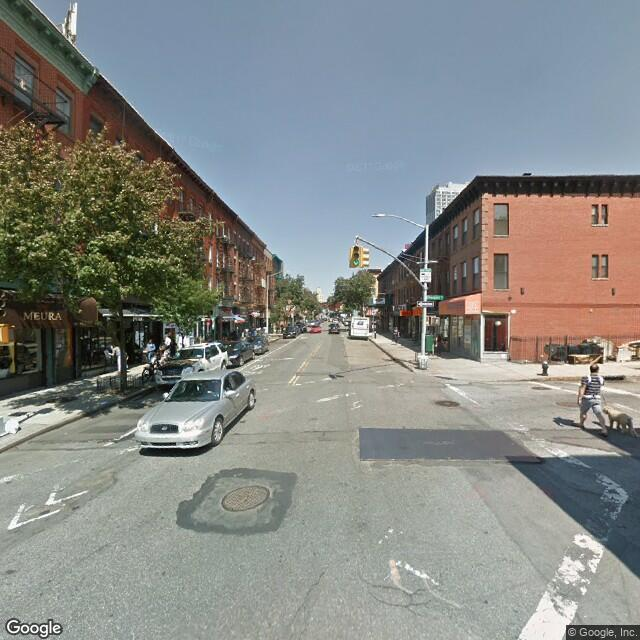litter: (3, 419, 34, 438), (568, 354, 615, 365)
